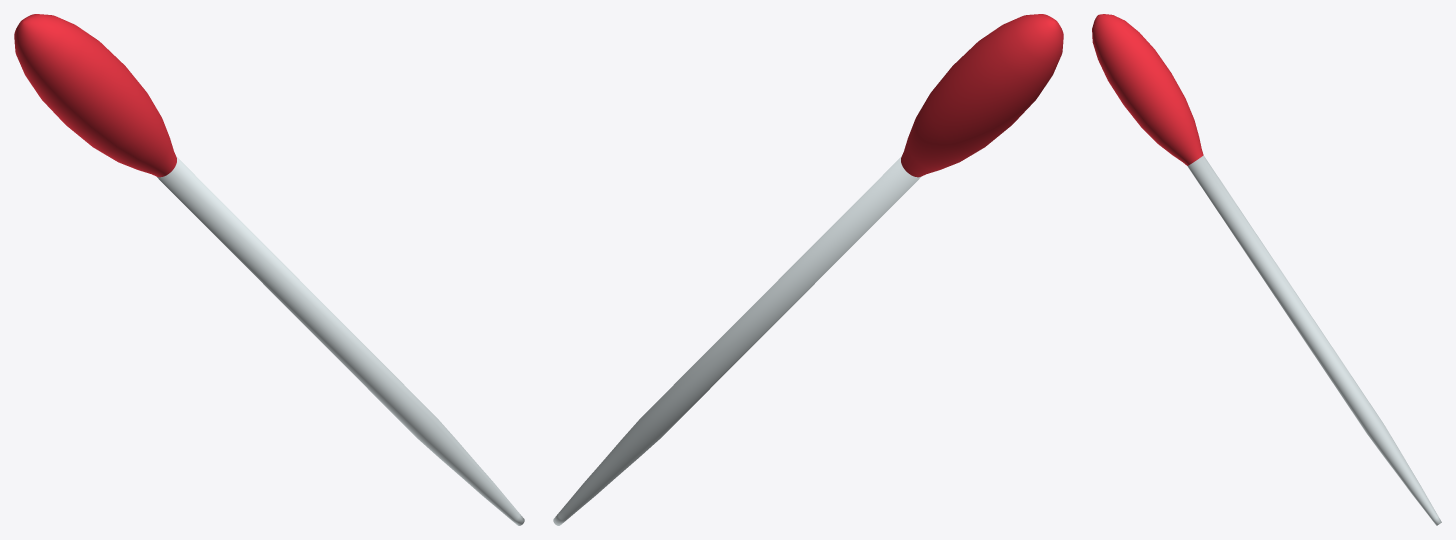
Rendered from pipeline.fbx.
3 renders of one model, left to right at view 1: azimuth 30°, elevation 25°; view 2: azimuth 150°, elevation 25°; view 3: azimuth 330°, elevation 25°, orthographic. The views are drawn at different scales.
Visible parts, largest first — view 1: Pipet_Tetes; view 2: Pipet_Tetes; view 3: Pipet_Tetes.
Part boxes in pixels (x1,y1,x2,y2): Pipet_Tetes: (14, 14, 524, 525); Pipet_Tetes: (553, 14, 1063, 525); Pipet_Tetes: (1092, 14, 1441, 525).
Size of the model in its own units: 348 by 411 by 50.
